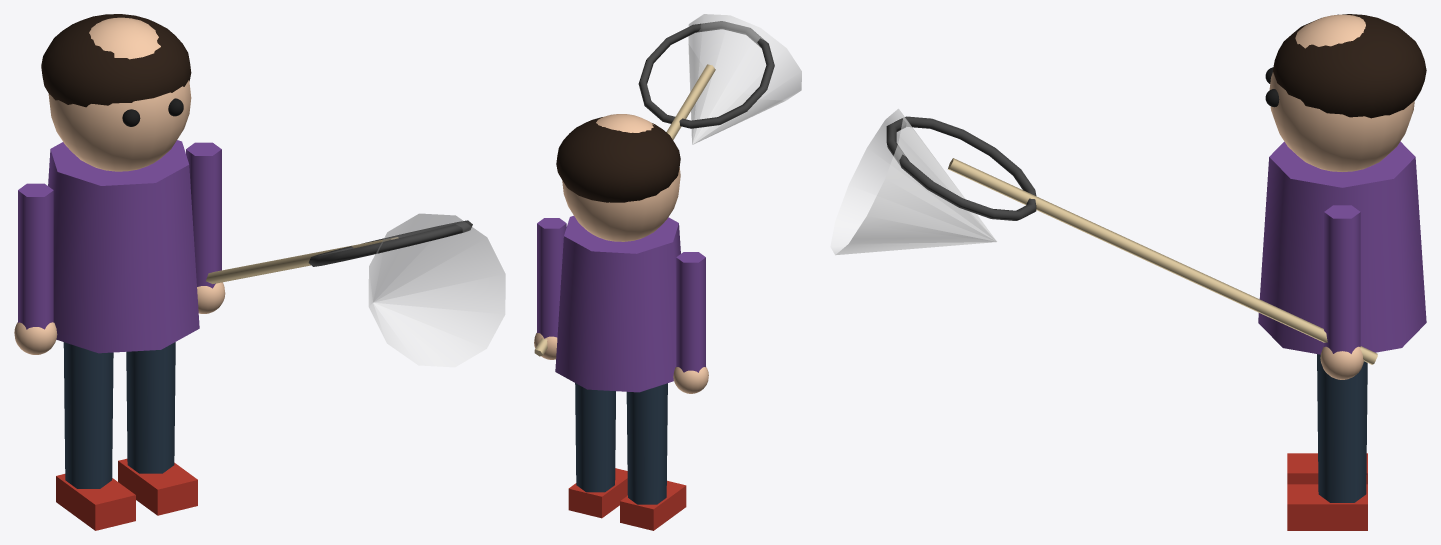
Rendered from kid_net_1.glb.
3 views of the same model, side by side, from view 1: azimuth 30°, elevation 25°; view 2: azimuth 150°, elevation 25°; view 3: azimuth 270°, elevation 25° (orthographic). The views are drawn at different scales.
Parts seen in each view (by area): view 1: object 1, armR, head, legL, legR, armL; view 2: object 1, armR, head, legL, legR, armL; view 3: armR, object 1, head, legR, legL.
Boxes of the visible parts, bbox=[...] form: object 1: bbox=[48, 140, 199, 353]; armR: bbox=[186, 142, 505, 367]; head: bbox=[41, 14, 191, 171]; legL: bbox=[56, 342, 135, 530]; legR: bbox=[118, 342, 197, 515]; armL: bbox=[14, 183, 57, 354]; object 1: bbox=[555, 215, 680, 392]; armR: bbox=[534, 14, 801, 359]; head: bbox=[556, 114, 680, 241]; legL: bbox=[620, 383, 686, 530]; legR: bbox=[568, 383, 627, 518]; armL: bbox=[673, 252, 708, 393]; armR: bbox=[830, 109, 1377, 379]; object 1: bbox=[1258, 141, 1426, 354]; head: bbox=[1265, 14, 1426, 171]; legR: bbox=[1287, 354, 1367, 530]; legL: bbox=[1287, 453, 1367, 484].
Size of the model in its own units: 0.835 by 1.46 by 1.63.
